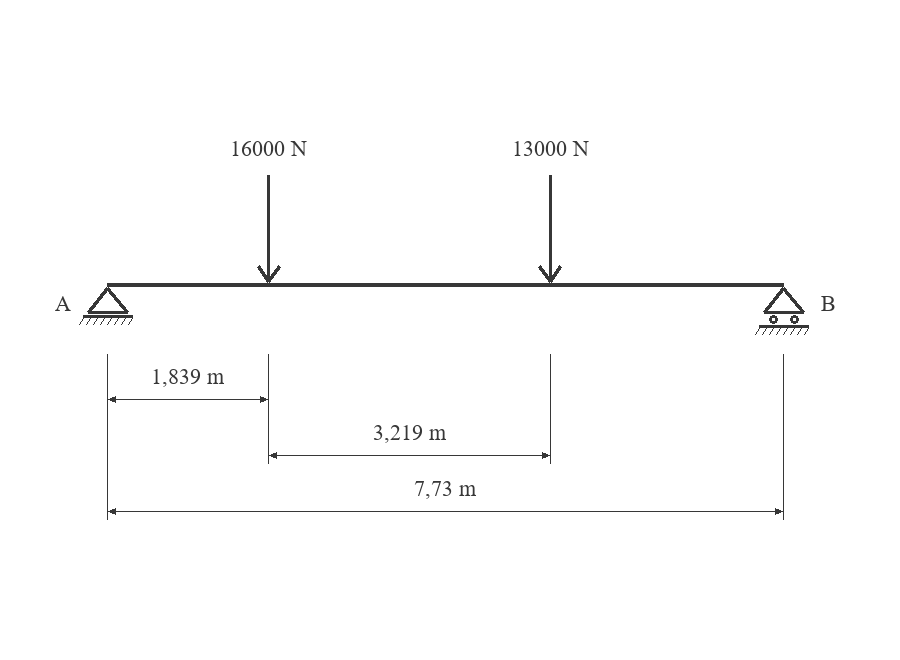pin_support: (79, 287, 133, 325)
point_load: (257, 175, 281, 283), (538, 175, 562, 283)
roller_support: (755, 287, 809, 335)
